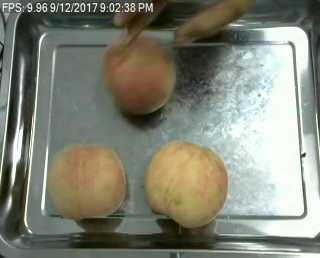Peach: (145, 141, 228, 226), (47, 142, 126, 220), (102, 37, 176, 114)
